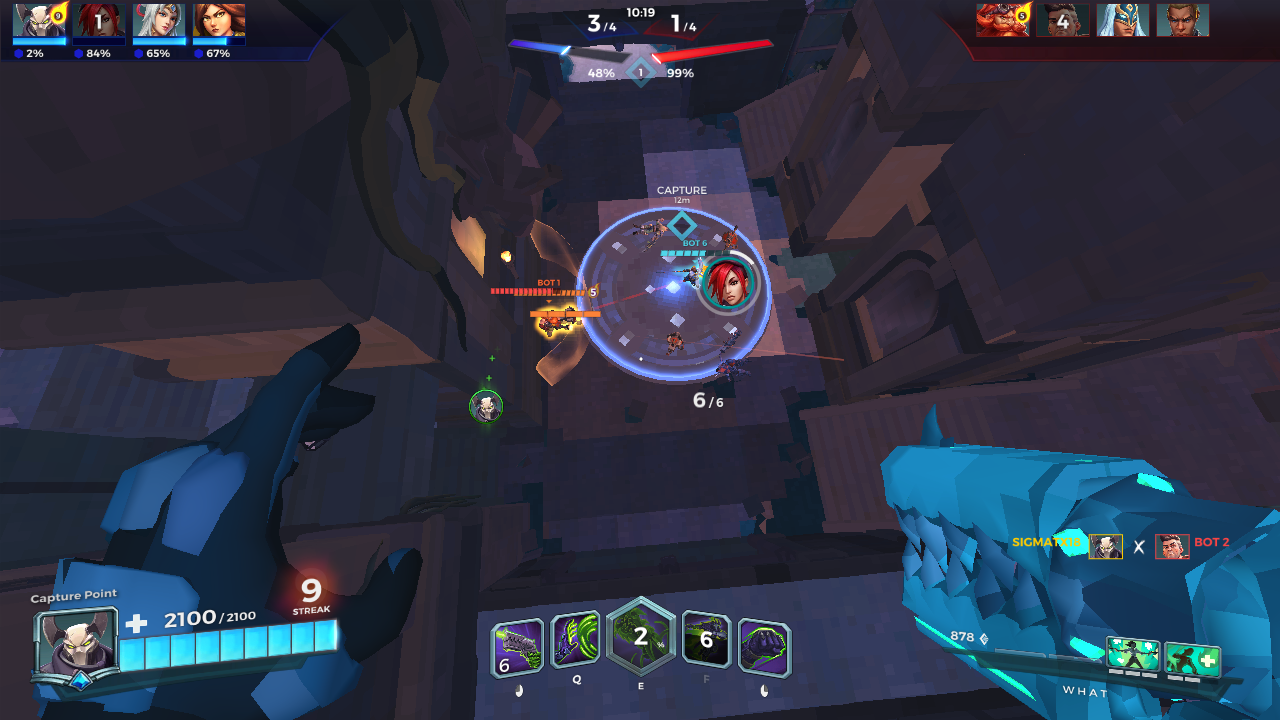model: (527, 304, 566, 343)
